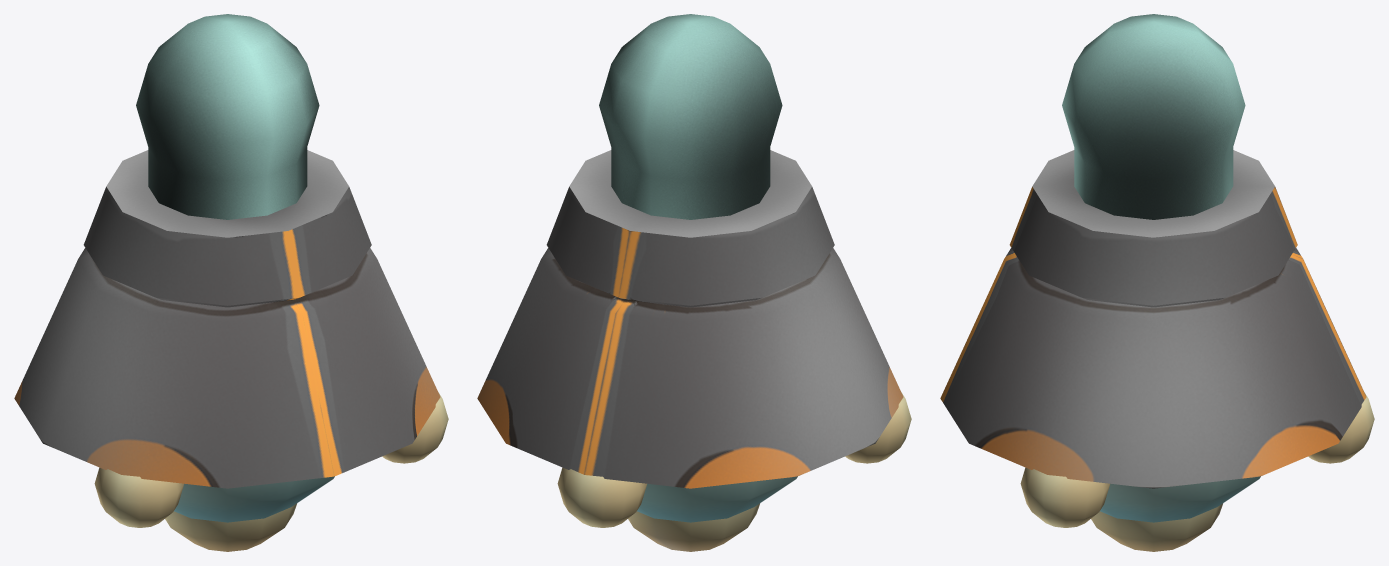
Rendered from feidie_03_512.FBX.
The picture shows the model from 3 angles, left to right: view 1: azimuth 30°, elevation 25°; view 2: azimuth 150°, elevation 25°; view 3: azimuth 270°, elevation 25°; orthographic projection.
Visible parts, largest first — view 1: Object001; view 2: Object001; view 3: Object001.
Boxes of the visible parts, <box> form: Object001: <box>14,14,448,551</box>; Object001: <box>477,14,911,551</box>; Object001: <box>940,14,1374,551</box>.
Bounding box in the file's own units: 114 × 154 × 116.
2 materials, 2 textured.
